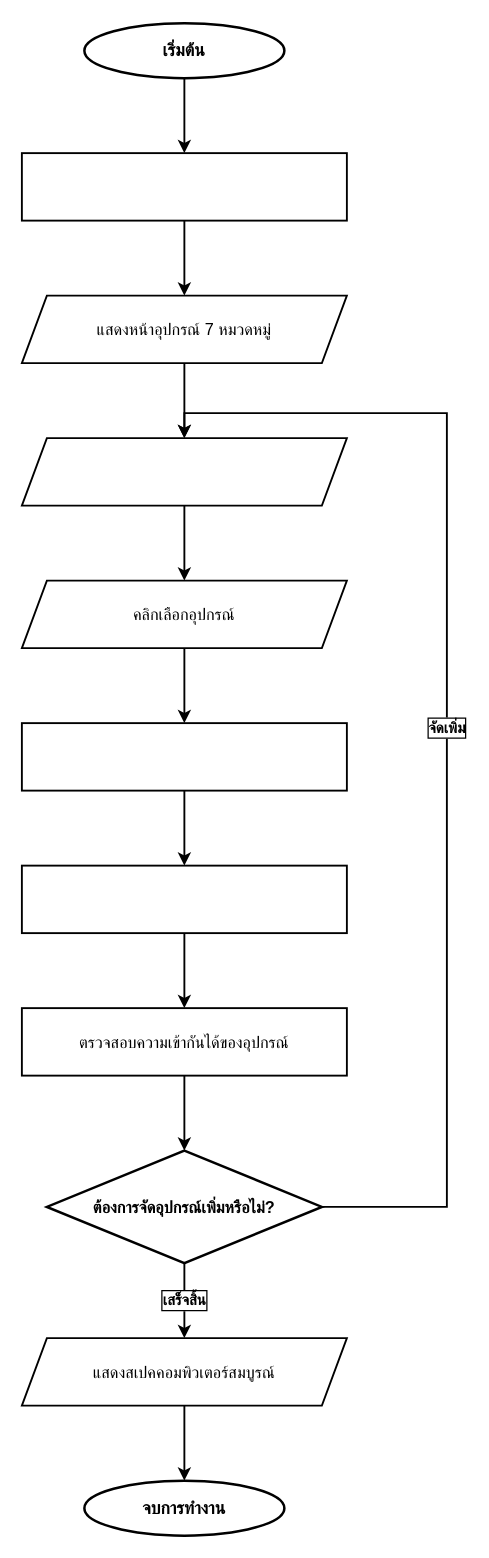
Some shapes in this 489 by 1558 pixel diagram are drawn without their labels. Each missing label, with the centre of its shape:
คำนวณราคารวมและกำลังไฟรวม: (x=183, y=899)
ดึงข้อมูลอุปกรณ์จากฐานข้อมูล: (x=183, y=186)
เพิ่มอุปกรณ์ลงในรายการจัดสเปค: (x=183, y=756)
เลือกหมวดหมู่อุปกรณ์: (x=183, y=471)
